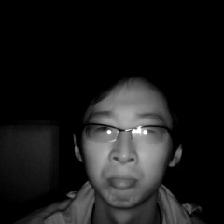sad: (61, 67, 188, 211)
